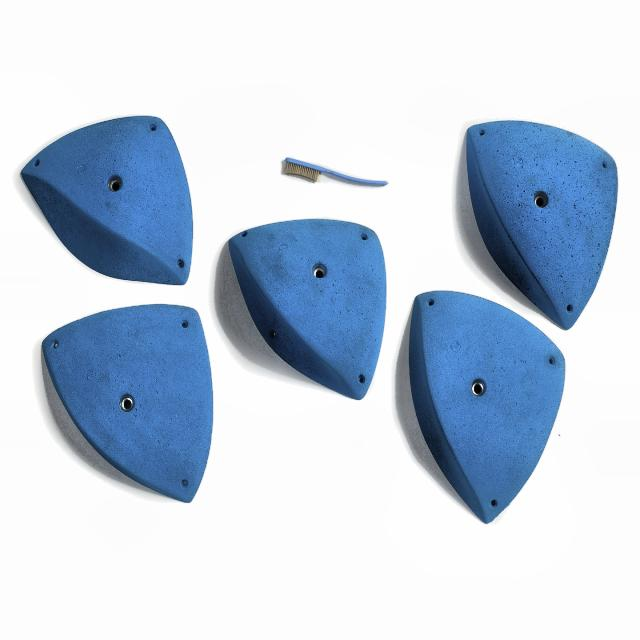Hold: (404, 286, 562, 528), (42, 305, 214, 501), (465, 114, 614, 328), (226, 216, 384, 402), (21, 115, 192, 286)
